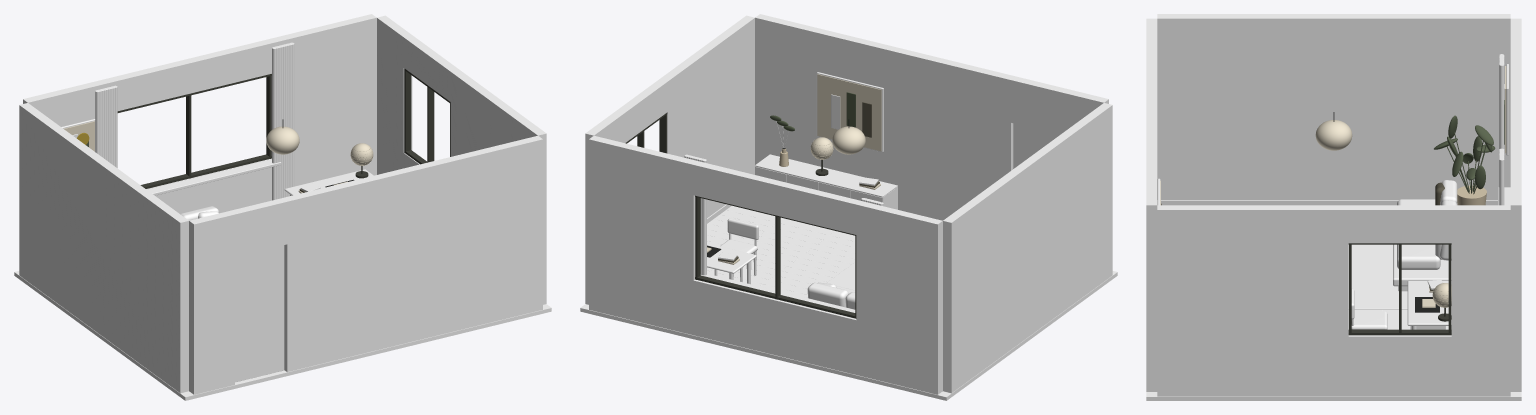
3 views of the same model, side by side, from view 1: azimuth 30°, elevation 25°; view 2: azimuth 150°, elevation 25°; view 3: azimuth 270°, elevation 25° (orthographic). The views are drawn at different scales.
Parts seen in each view (by area): view 1: south plaster wall.002, west plaster wall, north plaster wall.003, south plaster wall, Flush timber door, north plaster wall.002, east plaster wall, east plaster wall.003, north plaster wall.001, Continuous subfloor, south plaster wall.001, north plaster wall (+9 smaller); view 2: south plaster wall.002, west plaster wall, north plaster wall.003, north plaster wall, east plaster wall, north plaster wall.001, north plaster wall.002, Sideboard art linen, Continuous subfloor, south plaster wall.001, east plaster wall.002, Top panel 20mm (+19 smaller); view 3: west plaster wall, east plaster wall, east plaster wall.003, east plaster wall.001, east plaster wall.002, south plaster wall.002, Bound wool area rug, north plaster wall.003, Continuous subfloor, Painted baseboard.003, Timber top.001, north plaster wall.002 (+12 smaller).
Boxes of the visible parts, box(x1,y1,x2,y2) form: south plaster wall.002: box(282, 135, 542, 371); west plaster wall: box(19, 103, 188, 393); north plaster wall.003: box(267, 14, 376, 186); south plaster wall: box(189, 211, 234, 394); Flush timber door: box(235, 245, 284, 382); north plaster wall.002: box(104, 39, 272, 110); east plaster wall: box(450, 69, 546, 304); east plaster wall.003: box(377, 15, 412, 174); north plaster wall.001: box(146, 158, 271, 213); Continuous subfloor: box(14, 271, 551, 400); south plaster wall.001: box(230, 198, 287, 256); north plaster wall: box(23, 79, 109, 126); south plaster wall.002: box(755, 14, 1015, 220); west plaster wall: box(943, 103, 1112, 393); north plaster wall.003: box(589, 135, 698, 335); north plaster wall: box(856, 201, 942, 394); east plaster wall: box(659, 15, 754, 217); north plaster wall.001: box(693, 279, 856, 374); north plaster wall.002: box(693, 161, 860, 234); Sideboard art linen: box(817, 74, 881, 151); Continuous subfloor: box(580, 271, 1117, 400); south plaster wall.001: box(1011, 76, 1067, 134); east plaster wall.002: box(612, 79, 667, 142); Top panel 20mm: box(755, 154, 897, 197); west plaster wall: box(1157, 14, 1510, 199); east plaster wall: box(1157, 205, 1348, 396); east plaster wall.003: box(1451, 205, 1510, 396); east plaster wall.001: box(1348, 335, 1451, 396); east plaster wall.002: box(1348, 205, 1451, 243); south plaster wall.002: box(1146, 68, 1157, 391); Bound wool area rug: box(1348, 244, 1407, 309); north plaster wall.003: box(1510, 149, 1521, 391); Continuous subfloor: box(1146, 310, 1521, 400); Painted baseboard.003: box(1161, 200, 1497, 205); Timber top.001: box(1407, 281, 1451, 325); north plaster wall.002: box(1510, 62, 1521, 149).
Bounding box in the file's own units: 6.3 × 2.87 × 5.1.
